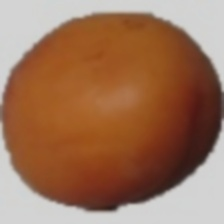apricot: (21, 37, 162, 224)
